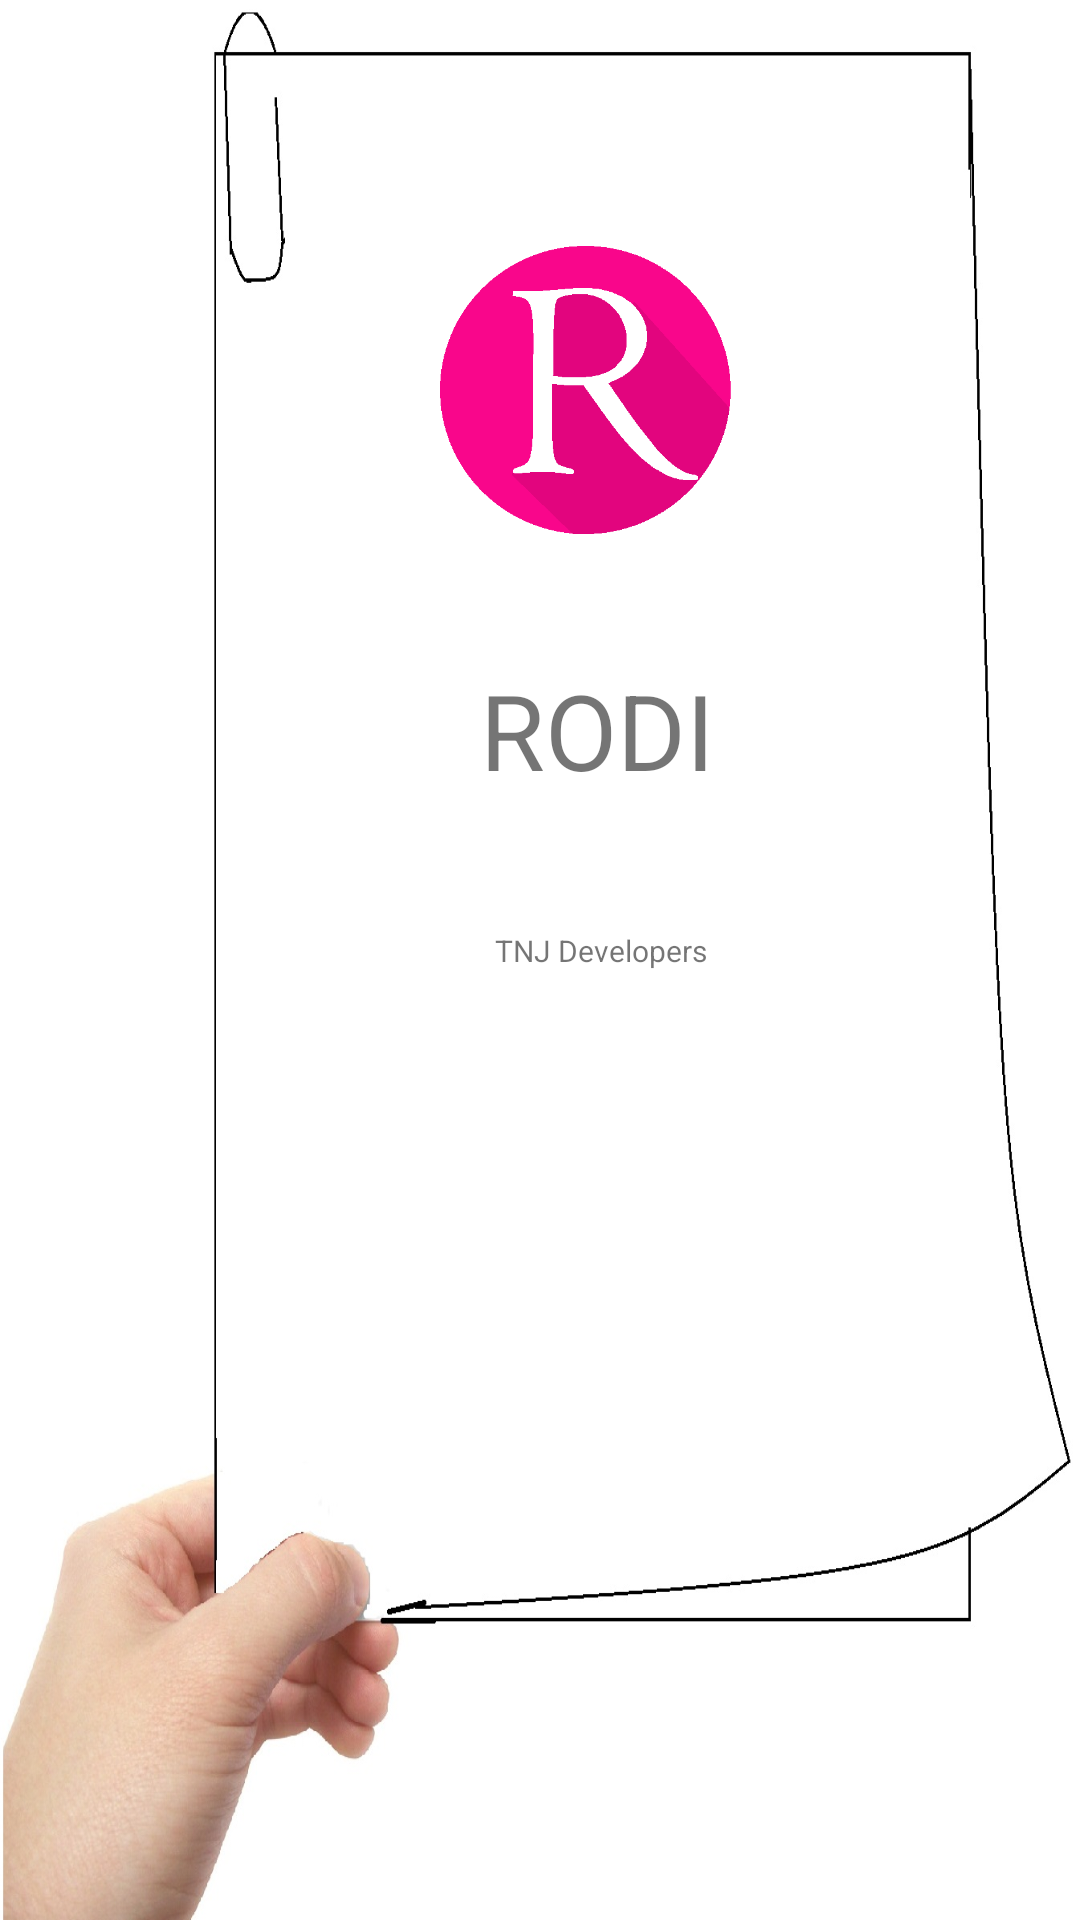

Icons on this 1080*1920 Android screen, each with the point to tap as (x,y):
ricon: (585,390)
